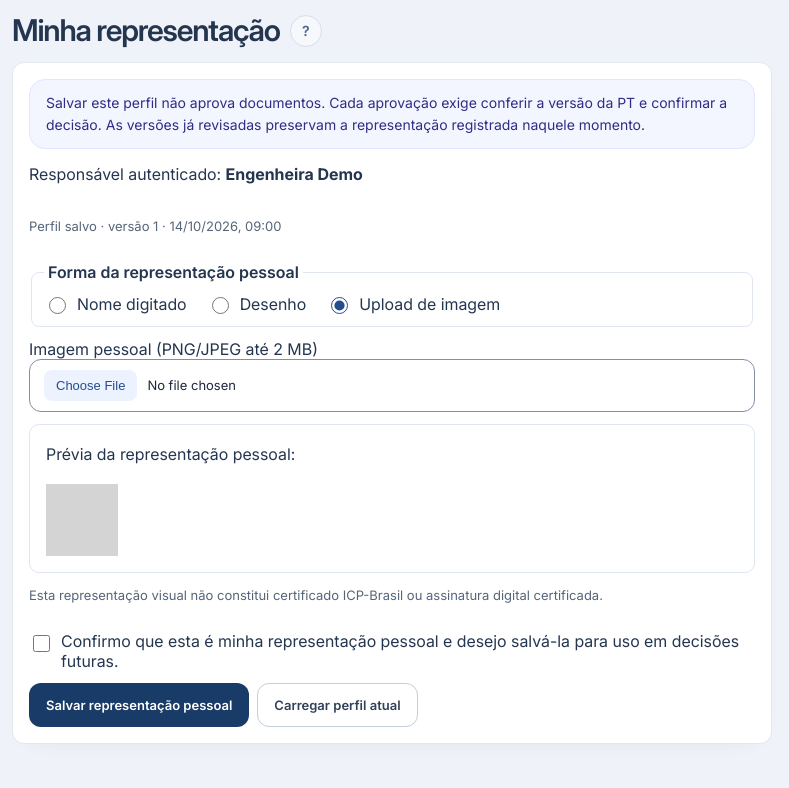
Test: representação pessoal reutilizável › mantém preenchimento diante de revisão concorrente e bloqueia salvamento desatualizado
The image size is (789, 788).
What coordinates should you click on to do the following:
click the radio button labelled "Nome digitado"
I would click on:
 (58, 306)
Its box is [49,297,66,314].
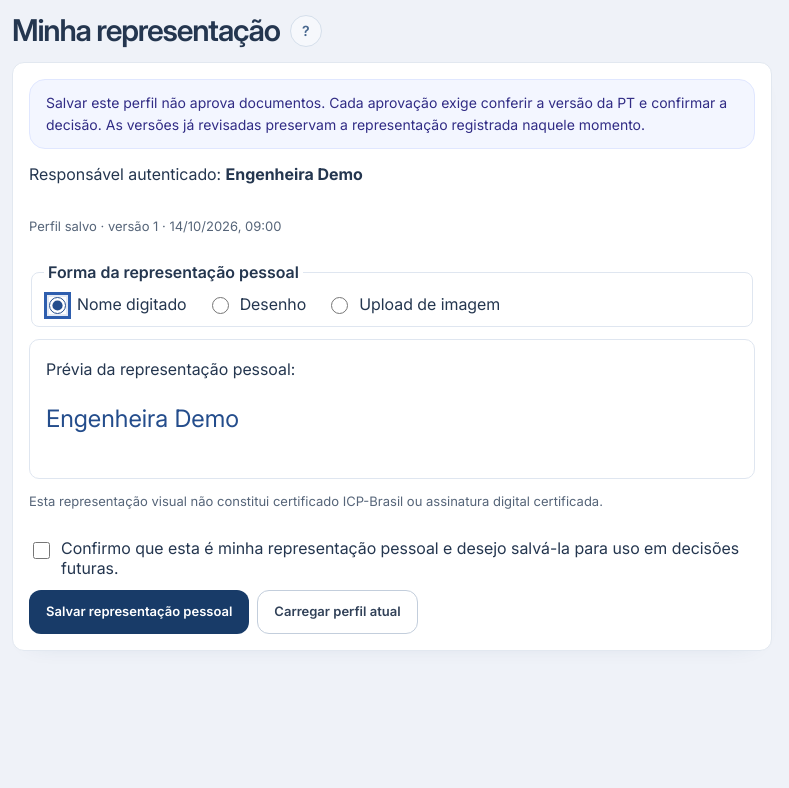
What coordinates should you click on to do the following:
click the checkbox
I would click on:
 (42, 550)
Its box is [33,542,50,558].
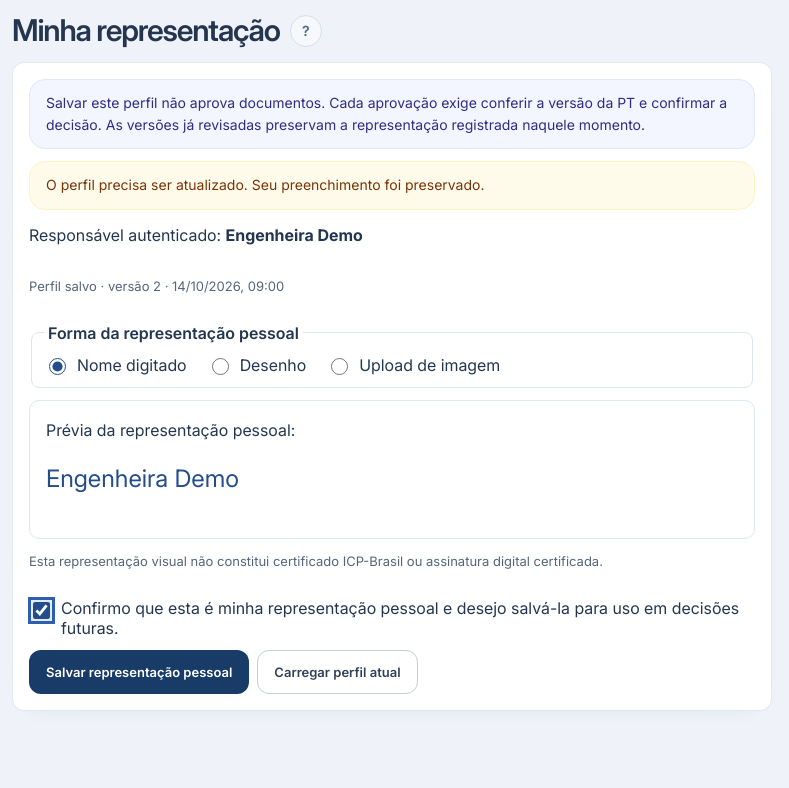
What coordinates should you click on to do the following:
click the button "Salvar representação pessoal"
I would click on:
 (139, 672)
Its box is [29,650,249,694].
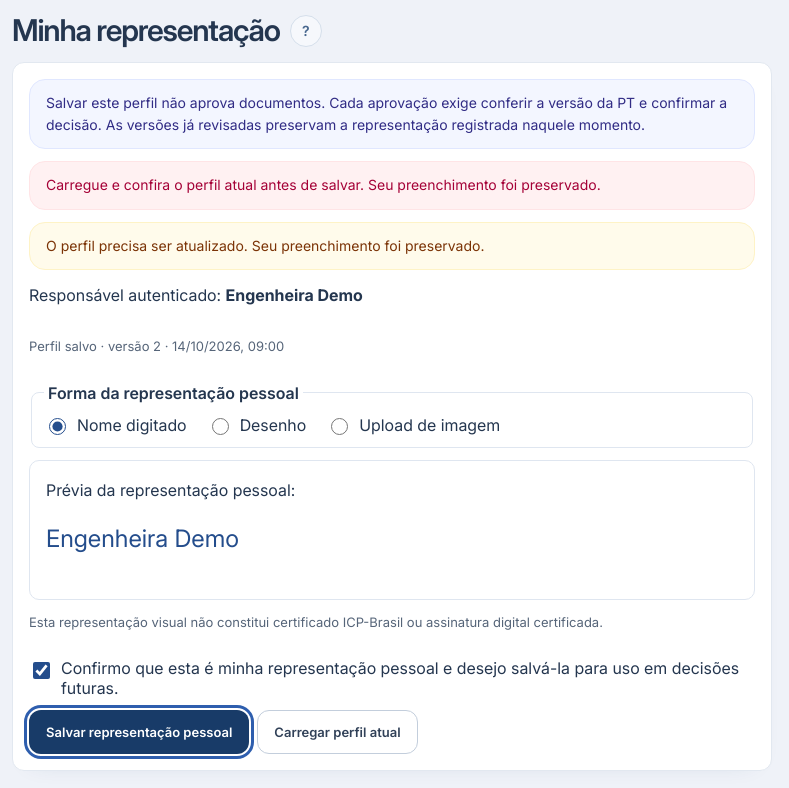
Now the radio button labelled "Nome digitado" is checked, box [49,418,66,435]
Now the 2nd message shows "Seu preenchimento foi preservado", box [46,176,601,193]
